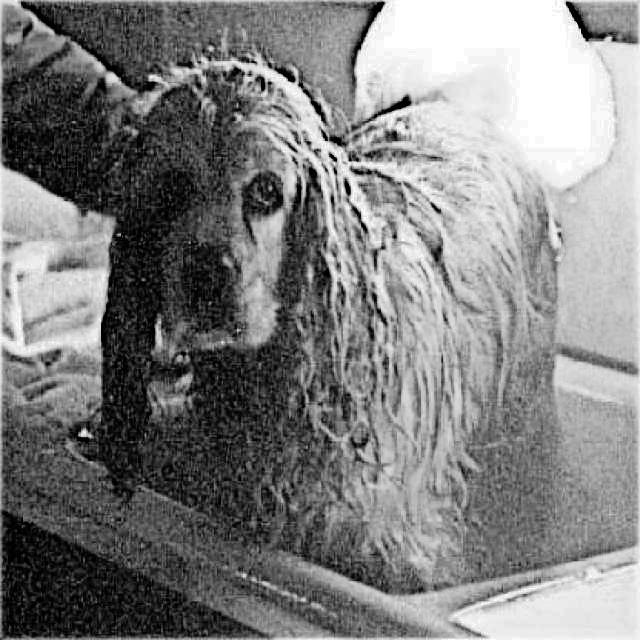Dog: (92, 36, 571, 593)
